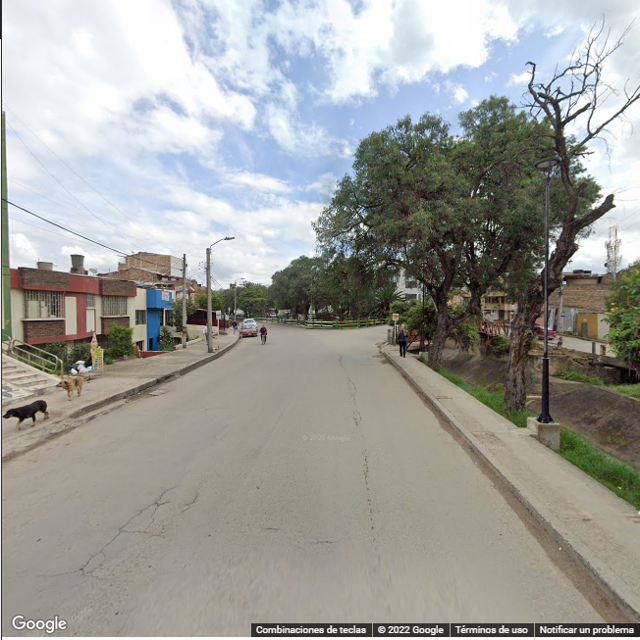D00: (82, 481, 170, 567)
D10: (32, 566, 81, 583), (110, 530, 176, 540)
